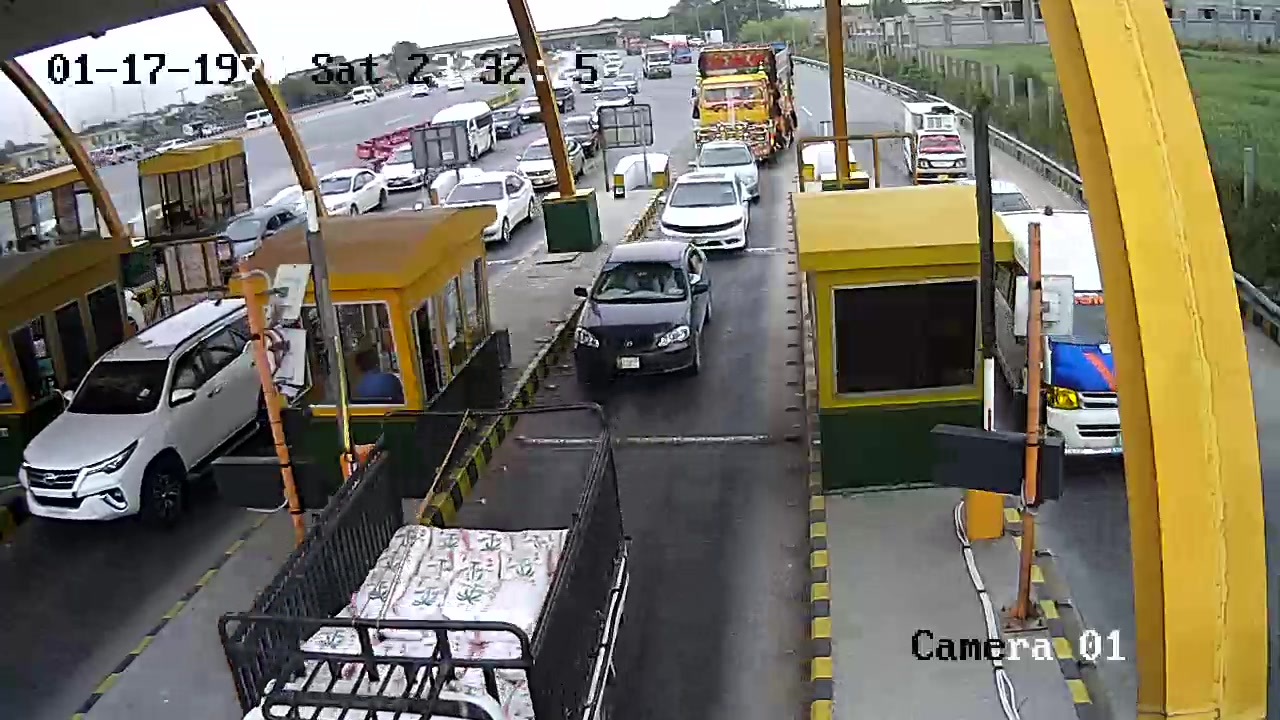F1: (568, 241, 719, 395)
